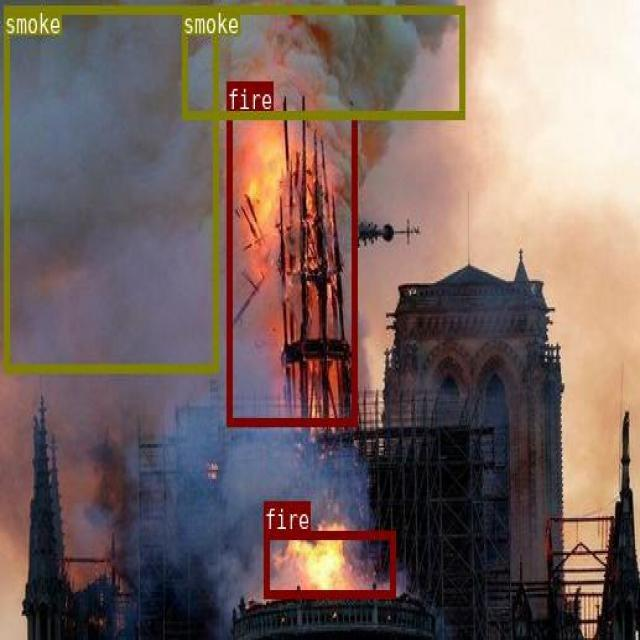fire: (226, 110, 356, 425), (263, 529, 395, 597)
smoke: (3, 5, 218, 371), (181, 6, 464, 117)
